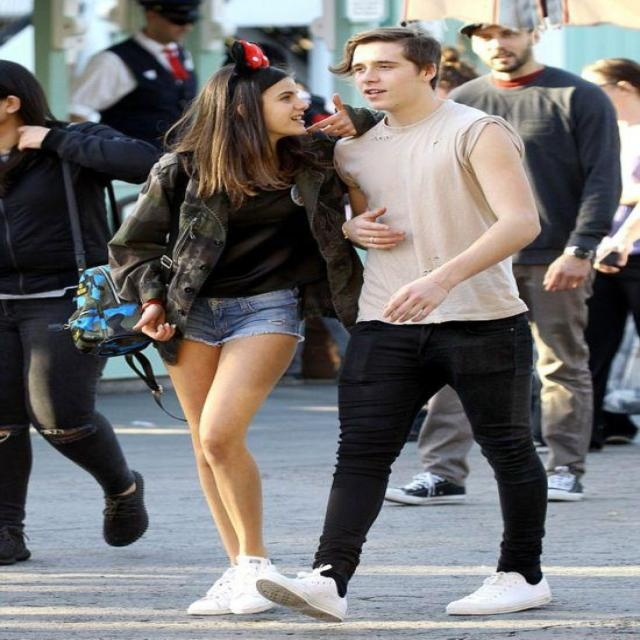obstacle: (333, 32, 555, 630), (104, 52, 331, 621)
